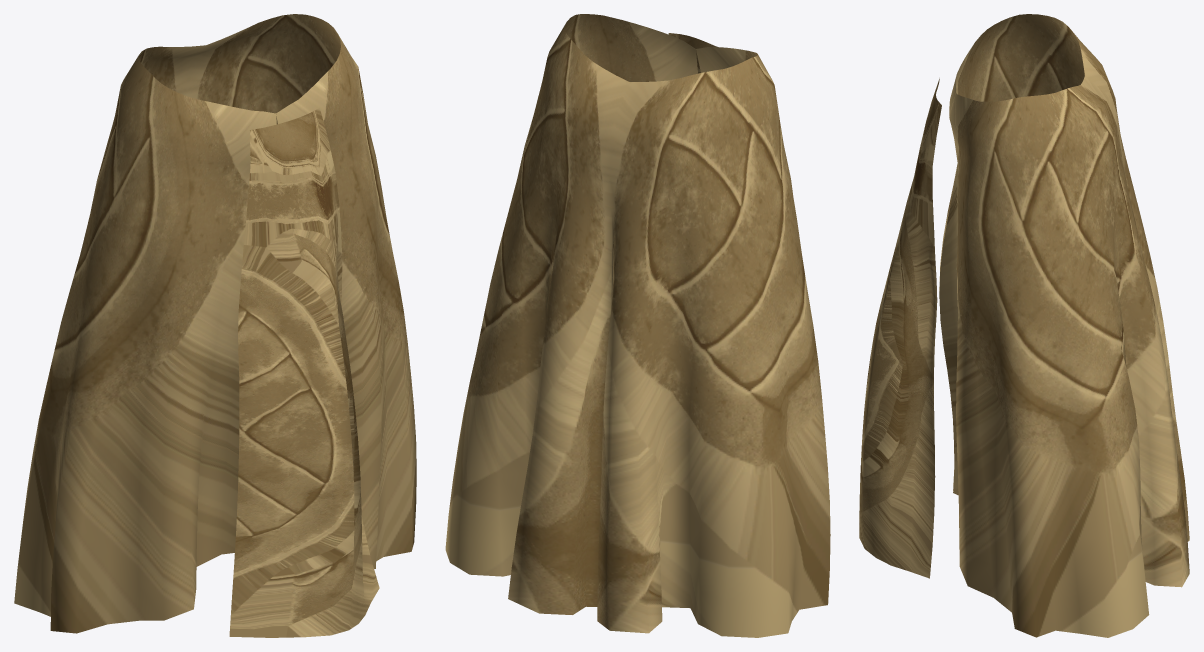
File: clo_rivendell_torso_heavy_all_tiers.fbx
3 renders of one model, left to right at view 1: azimuth 30°, elevation 25°; view 2: azimuth 150°, elevation 25°; view 3: azimuth 270°, elevation 25°, orthographic. The views are drawn at different scales.
Parts seen in each view (by area): view 1: clo_rivendell_torso_heavy_all_tiers; view 2: clo_rivendell_torso_heavy_all_tiers; view 3: clo_rivendell_torso_heavy_all_tiers.
Boxes of the visible parts, <box> form: clo_rivendell_torso_heavy_all_tiers: <box>14,14,416,637</box>; clo_rivendell_torso_heavy_all_tiers: <box>445,14,830,637</box>; clo_rivendell_torso_heavy_all_tiers: <box>859,14,1189,637</box>.
Size of the model in its own units: 0.6018 by 0.5129 by 0.8753.
1 material, 1 textured.
